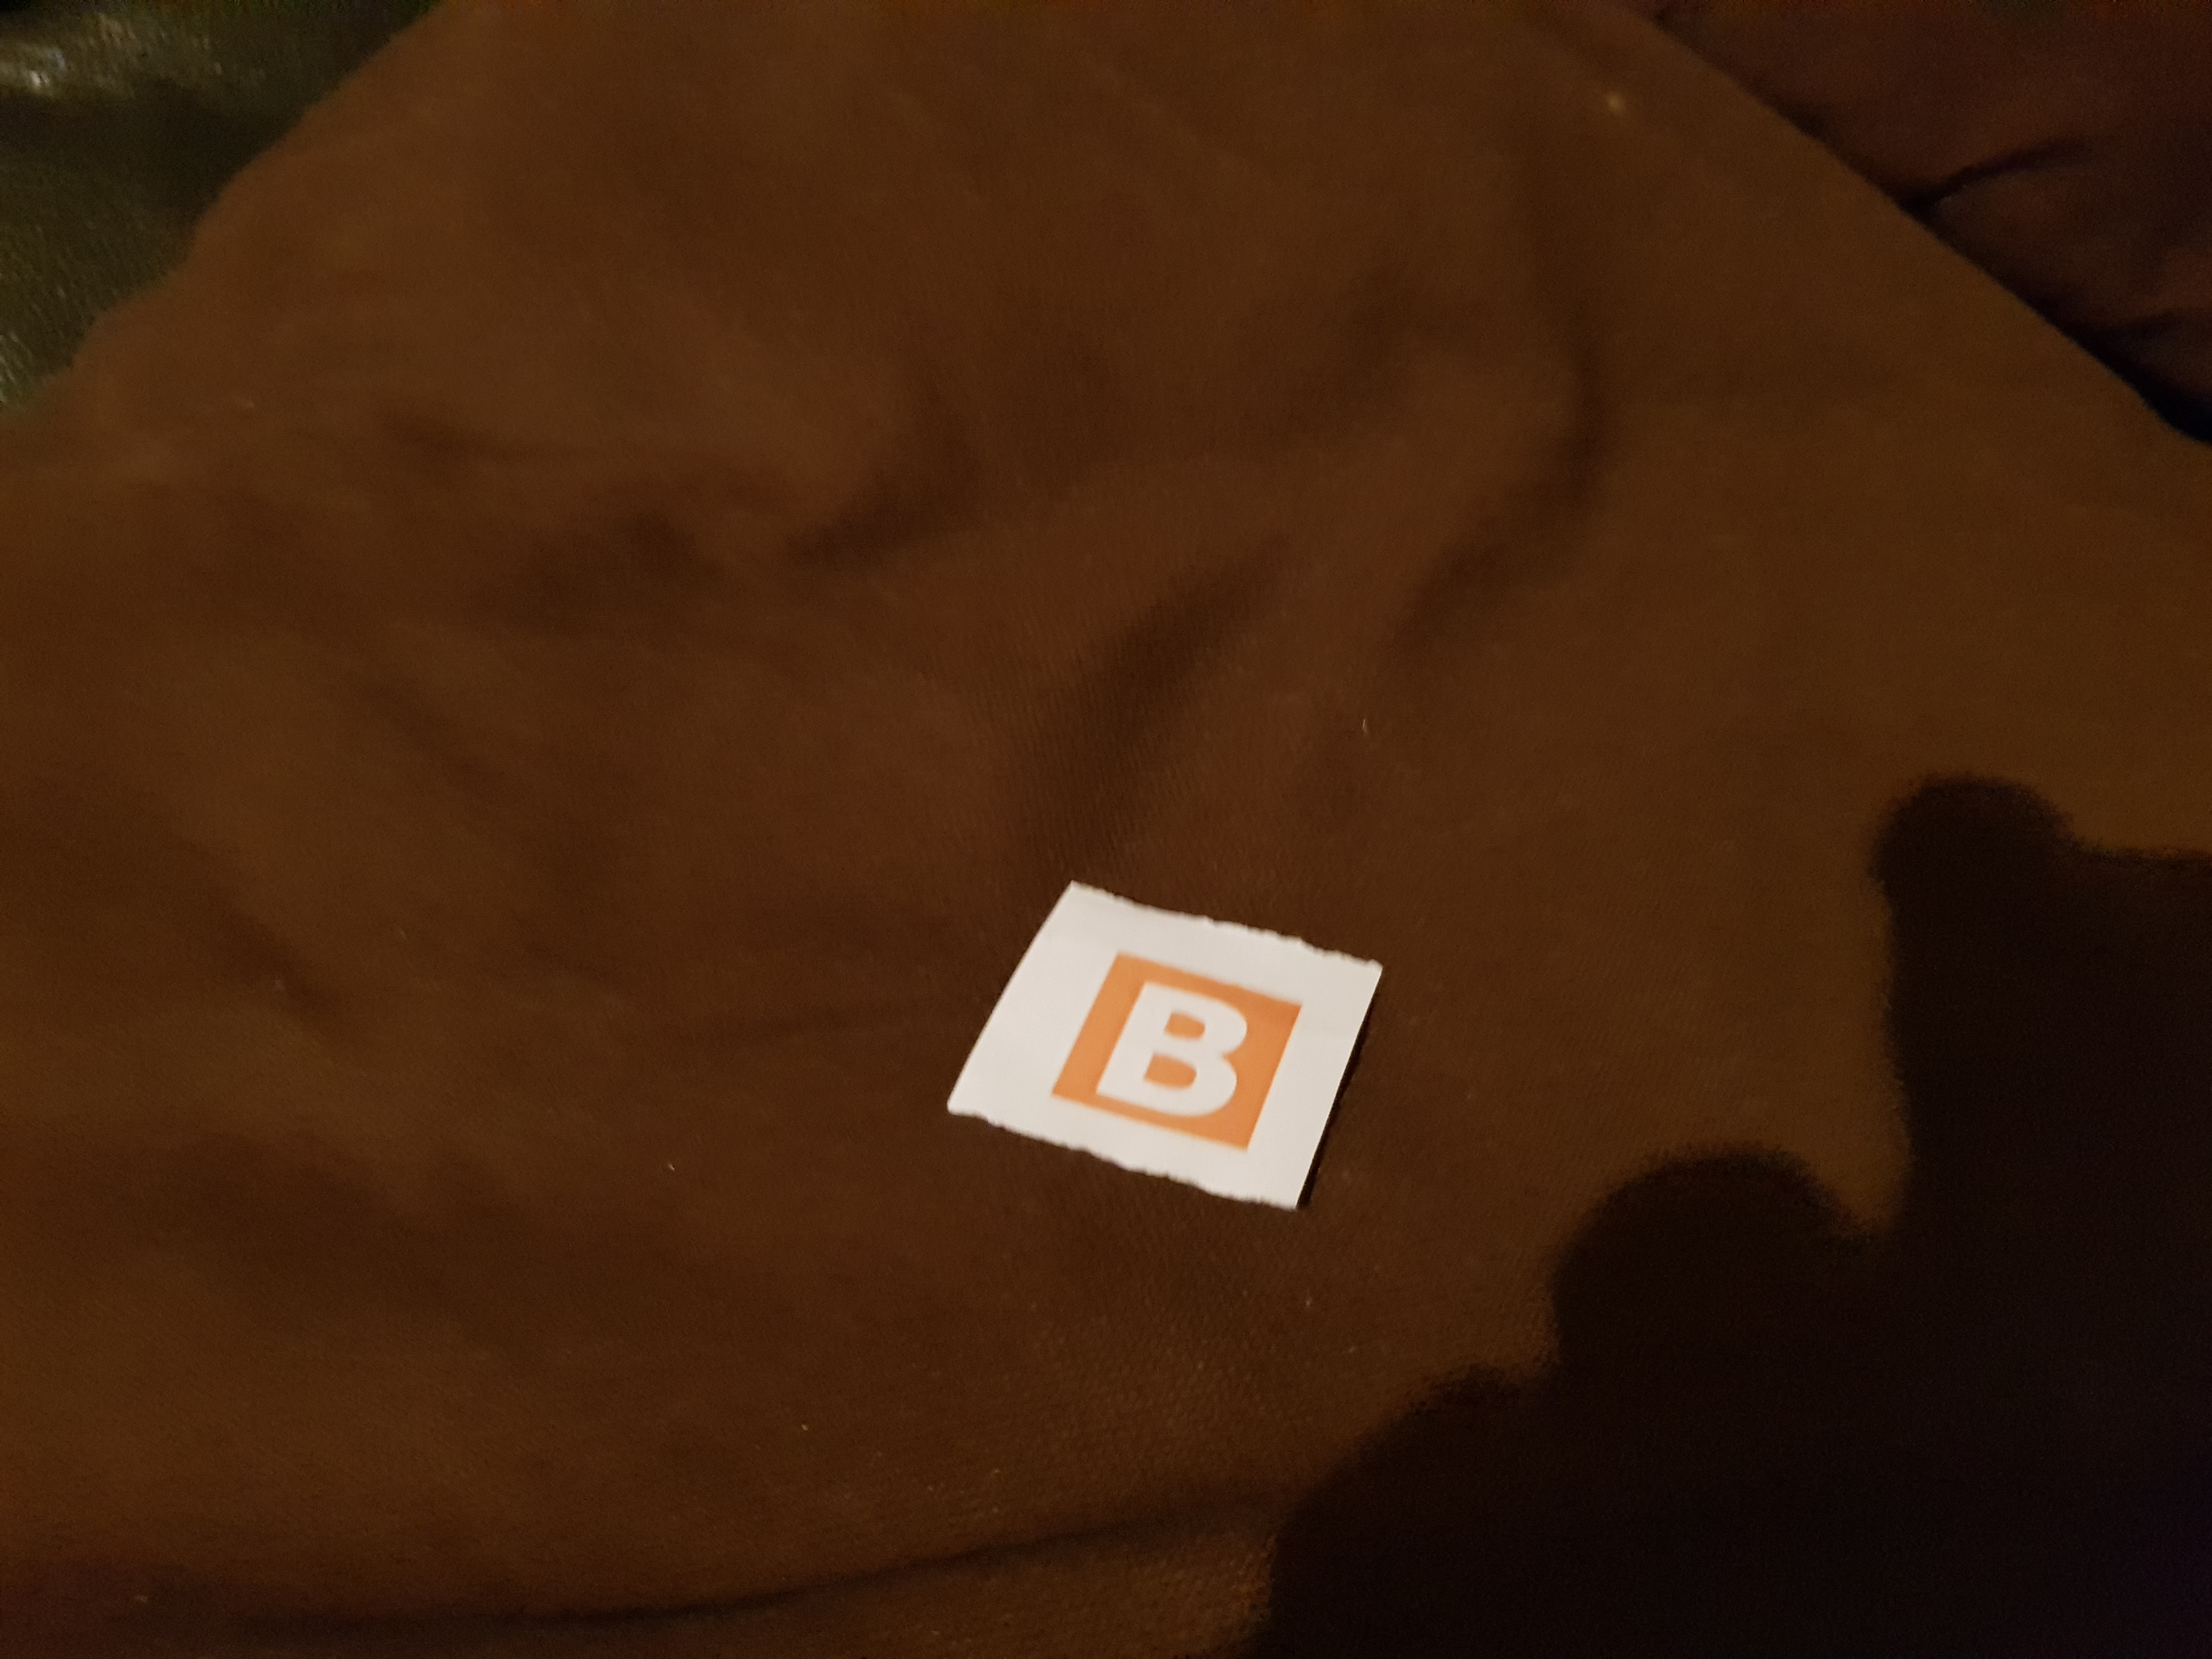orange marker: (949, 878, 1372, 1218)
